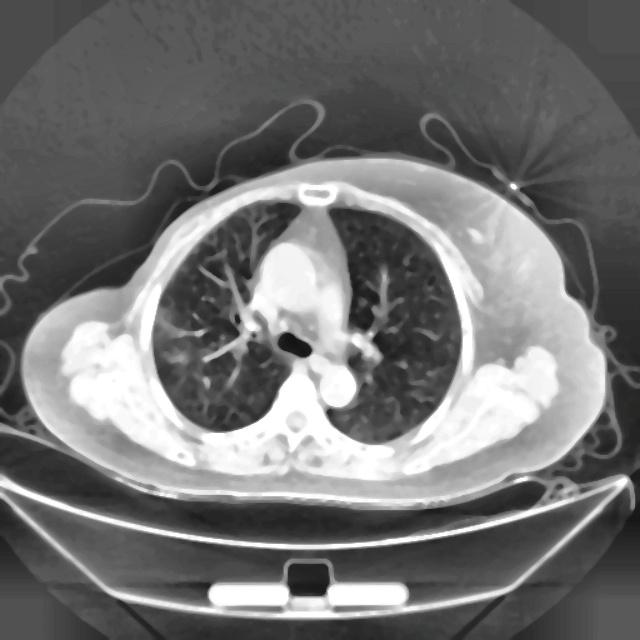covid: (22, 151, 607, 508)
